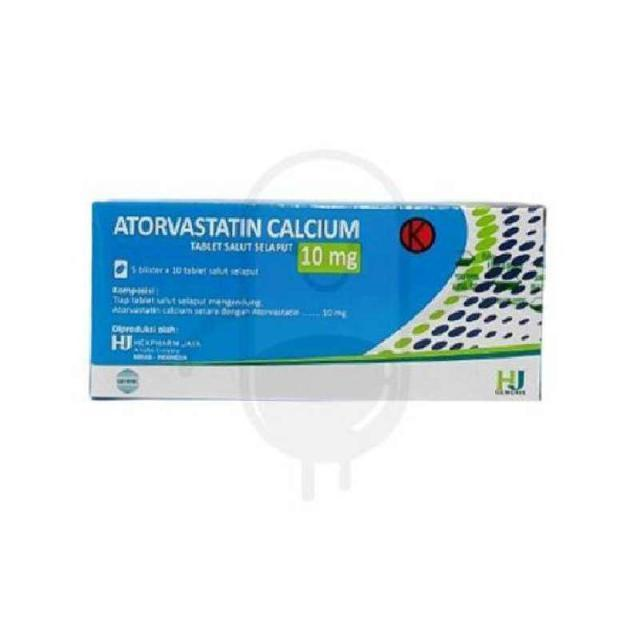drug-name: (112, 212, 361, 240)
